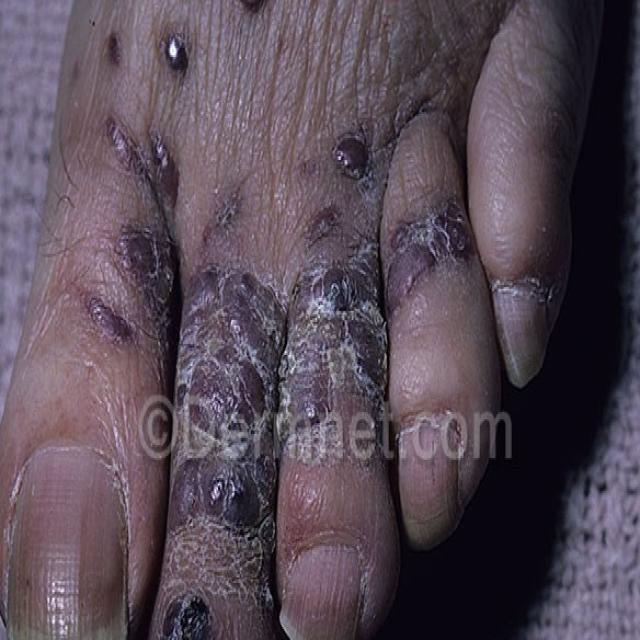Vascular Tumors: (184, 276, 392, 494), (73, 81, 178, 344), (373, 186, 476, 299), (317, 125, 381, 205), (158, 566, 227, 640), (150, 22, 205, 98)
